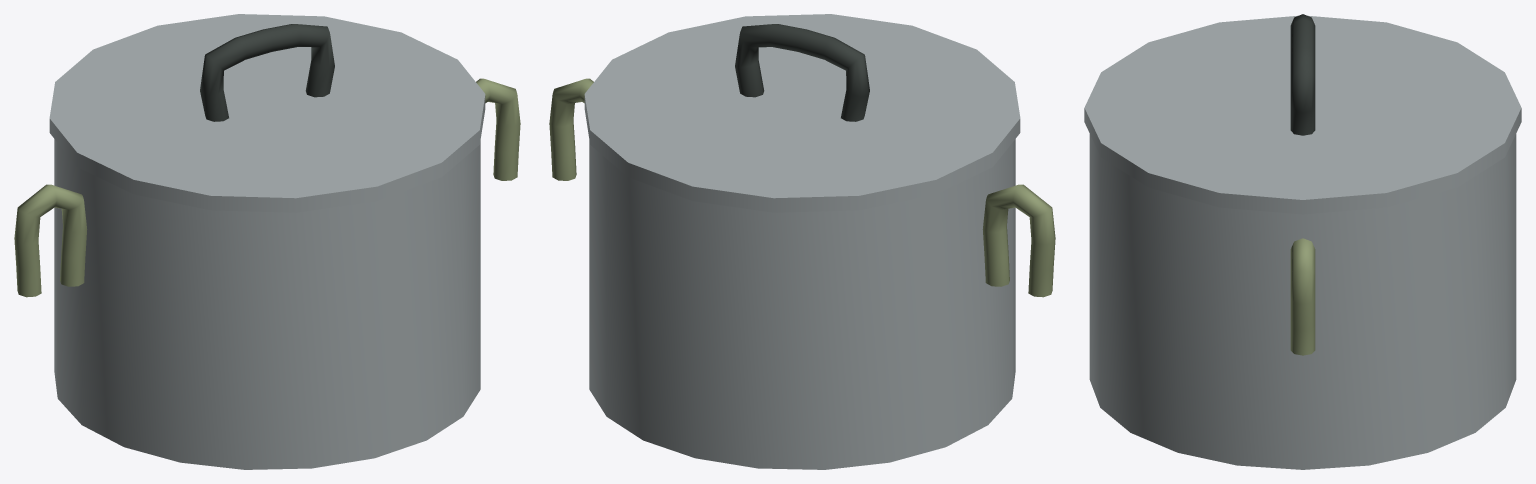
File: water-collection-and-purification-boiling-vessel-e711cbb9__20195.glb
3 views of the same model, side by side, from view 1: azimuth 30°, elevation 25°; view 2: azimuth 150°, elevation 25°; view 3: azimuth 270°, elevation 25° (orthographic).
Parts seen in each view (by area): view 1: boiling-vessel; view 2: boiling-vessel; view 3: boiling-vessel.
Boxes of the visible parts, <box> form: boiling-vessel: <box>14,14,520,469</box>; boiling-vessel: <box>549,14,1055,469</box>; boiling-vessel: <box>1084,14,1521,469</box>.
Bounding box in the file's own units: 0.6508 × 0.4327 × 0.492.
